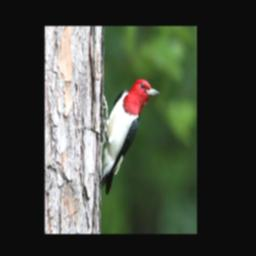Woodpecker: (98, 78, 163, 194)
